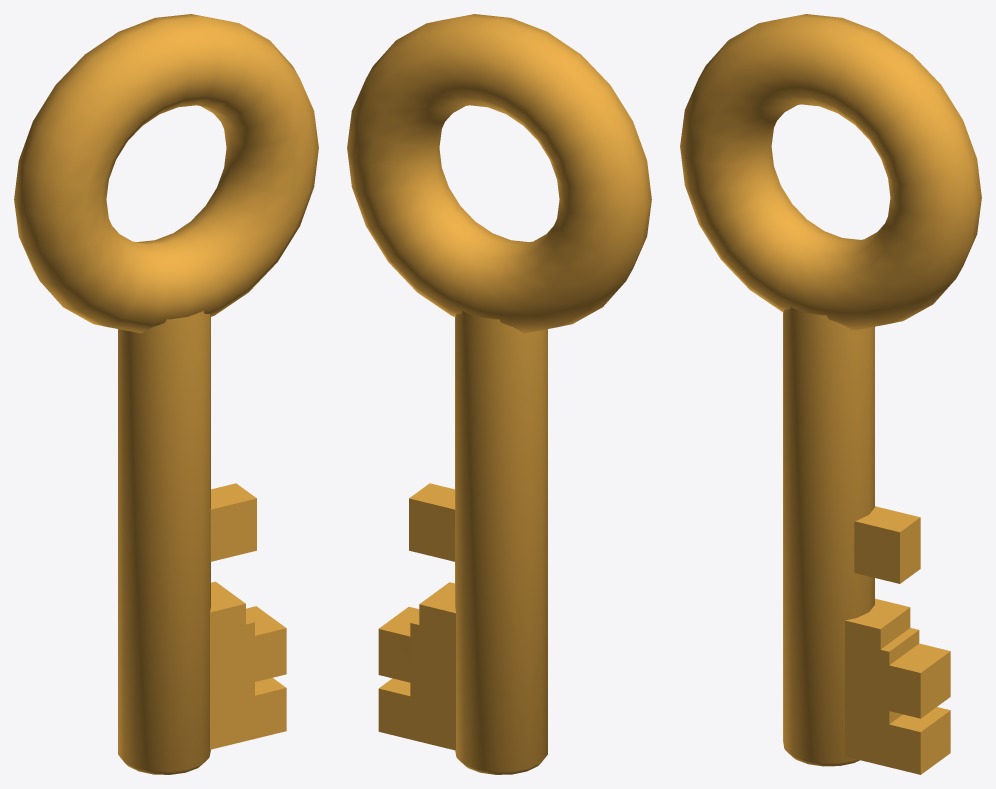
File: key_01.FBX
The picture shows the model from 3 angles, left to right: view 1: azimuth 30°, elevation 25°; view 2: azimuth 150°, elevation 25°; view 3: azimuth 330°, elevation 25°; orthographic projection.
Visible parts, largest first — view 1: Box001; view 2: Box001; view 3: Box001.
Part boxes in pixels (box(x1,y1,x2,y2)): Box001: box(14, 14, 318, 774); Box001: box(347, 14, 651, 774); Box001: box(680, 14, 981, 774).
Size of the model in its own units: 35.87 by 86.27 by 9.94.
Materials: 1 (1 with a texture image).
